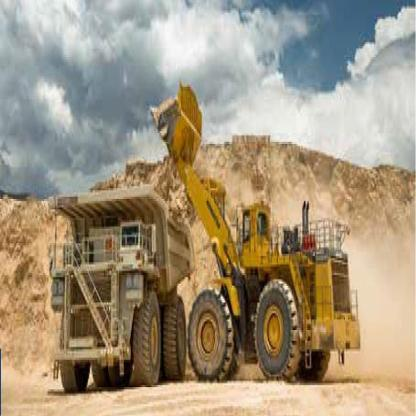bull_dozer/loader/grader: (143, 68, 371, 405)
dump_truck: (40, 173, 188, 407)
